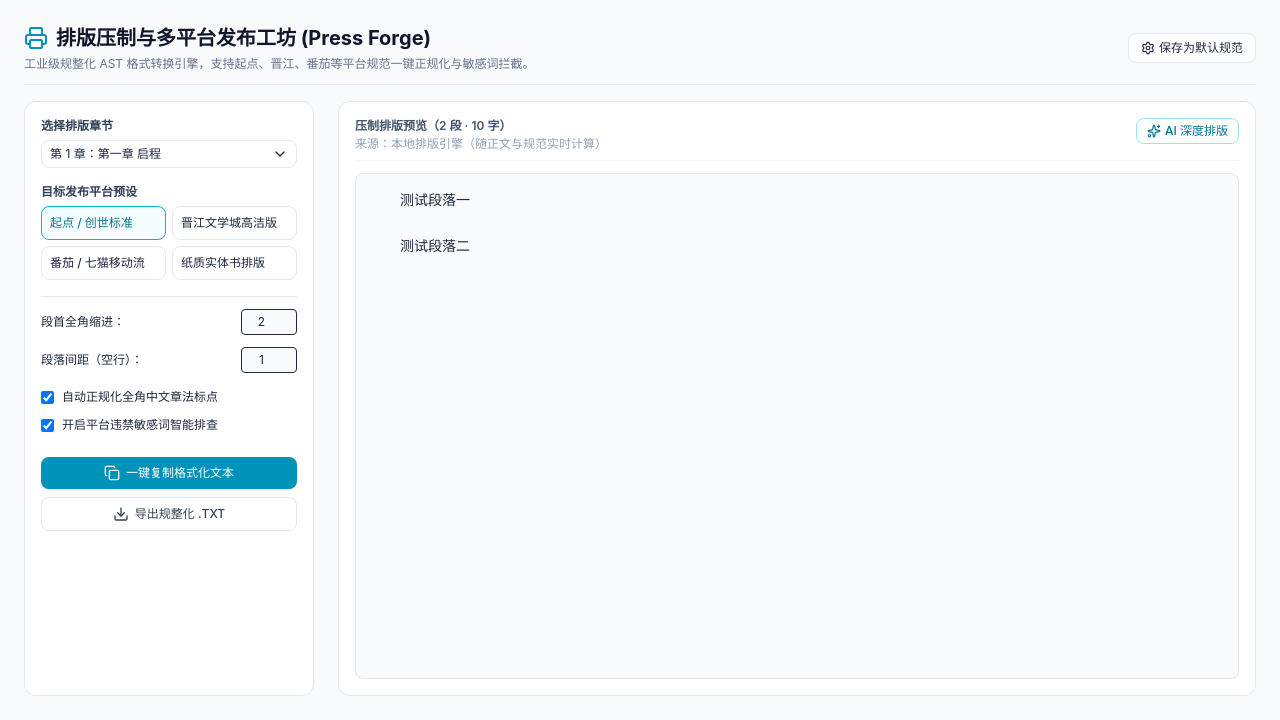
PressForge Components › drops the AI preview as soon as its own inputs change, instead of showing a stale result
This screenshot has width=1280, height=720.
Click the button with test id "press-forge-ai-run". click: (1188, 131)
box: [1136,118,1239,144]
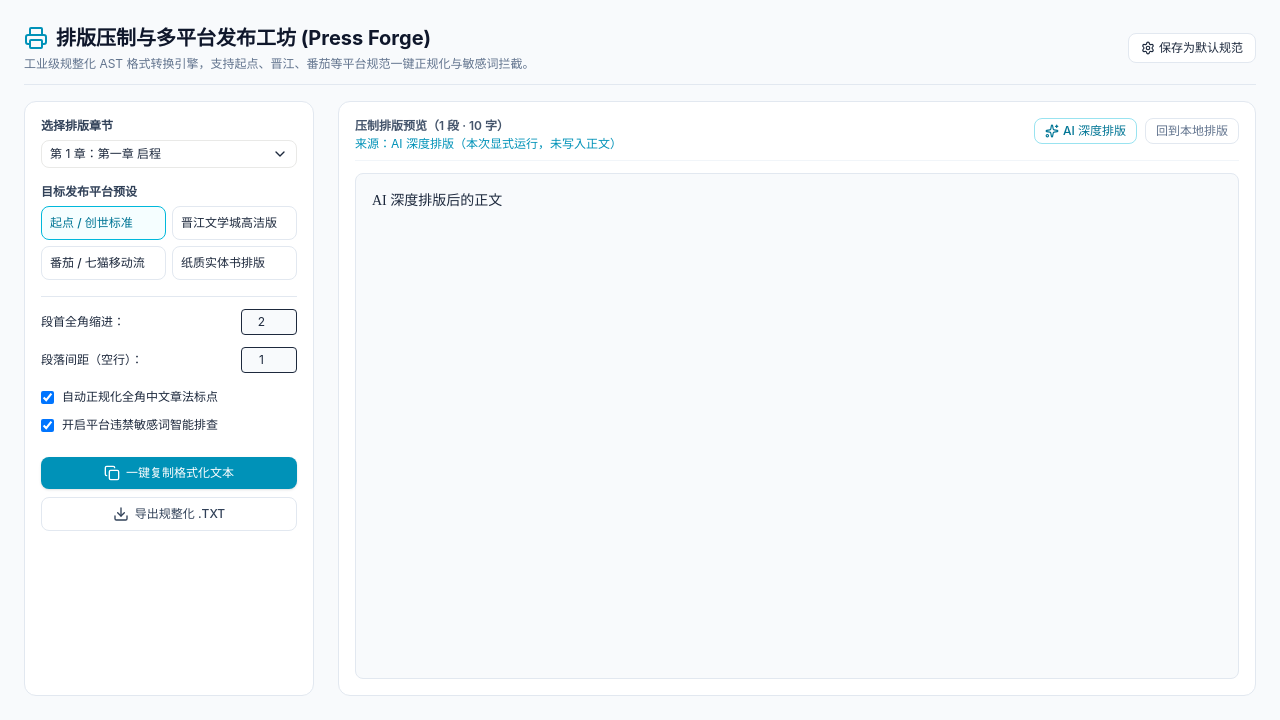
Check: the text box holds "AI 深度排版后的正文", box [355,173,1239,679]
Replace the text in the number field next to "段首全角缩进：" with "0". click: (269, 322)
box: [241,309,297,335]
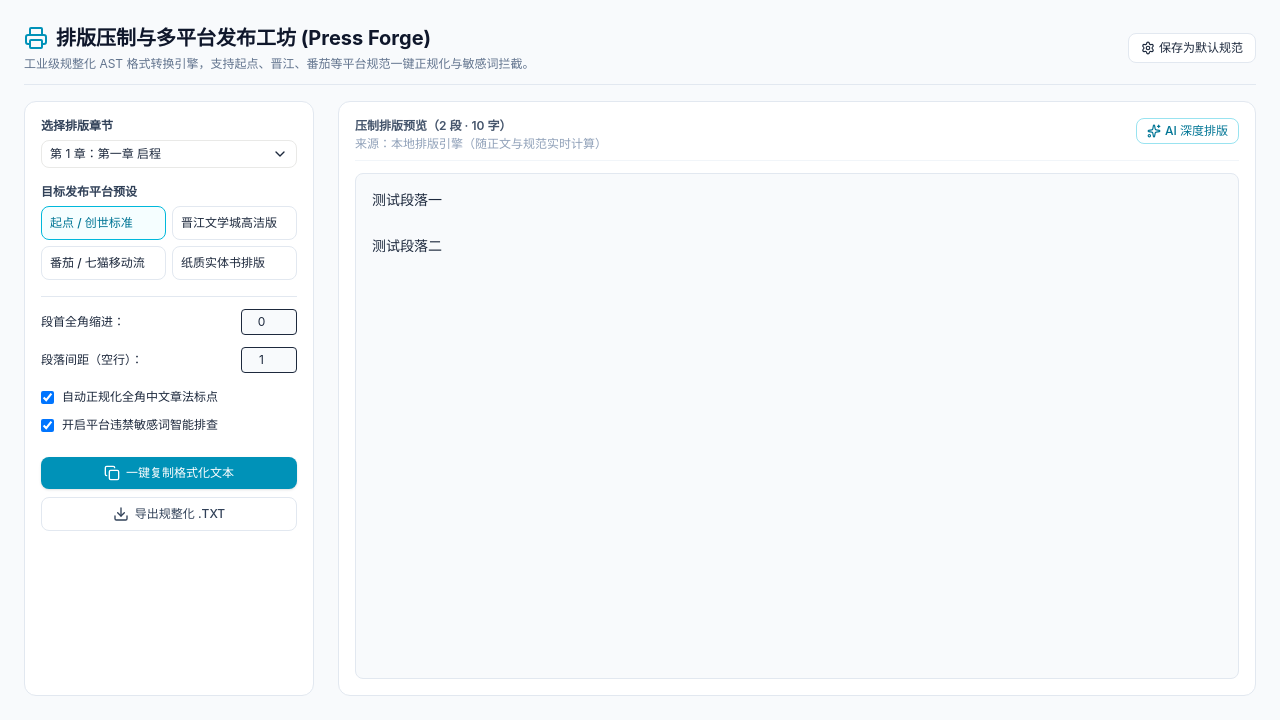
Check: the text box does not hold "AI 深度排版后的正文", box [355,173,1239,679]
Check: the text with test id "press-forge-result-origin" shows "来源：本地排版引擎", box [355,136,607,151]
Check: the button "回到本地排版" is gone
